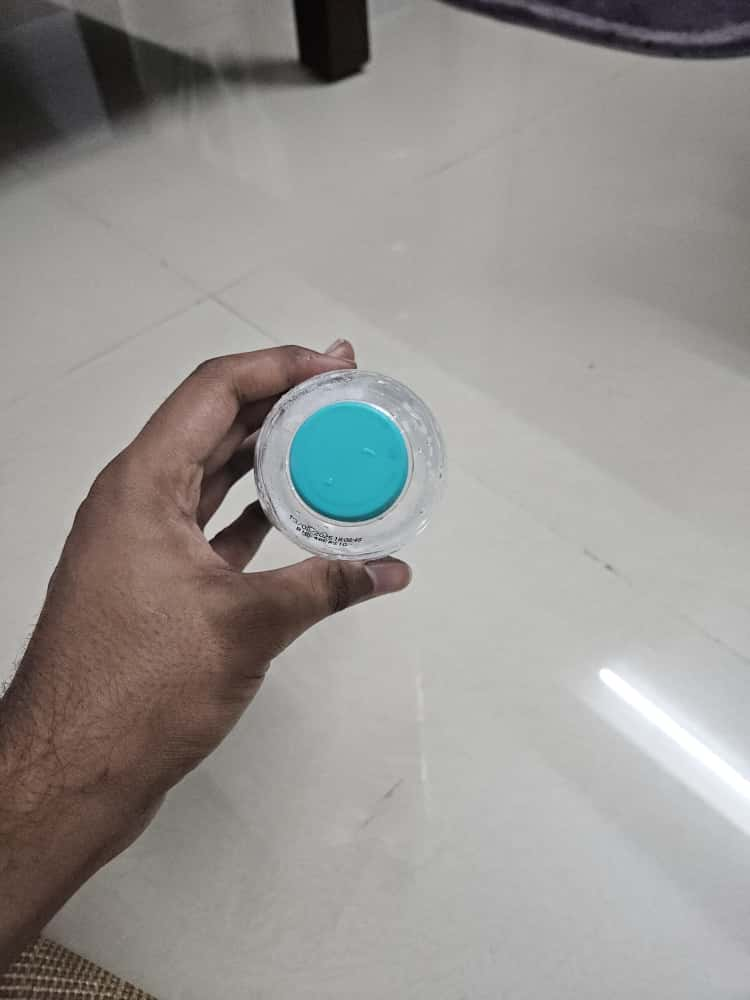dry: (207, 351, 518, 605)
